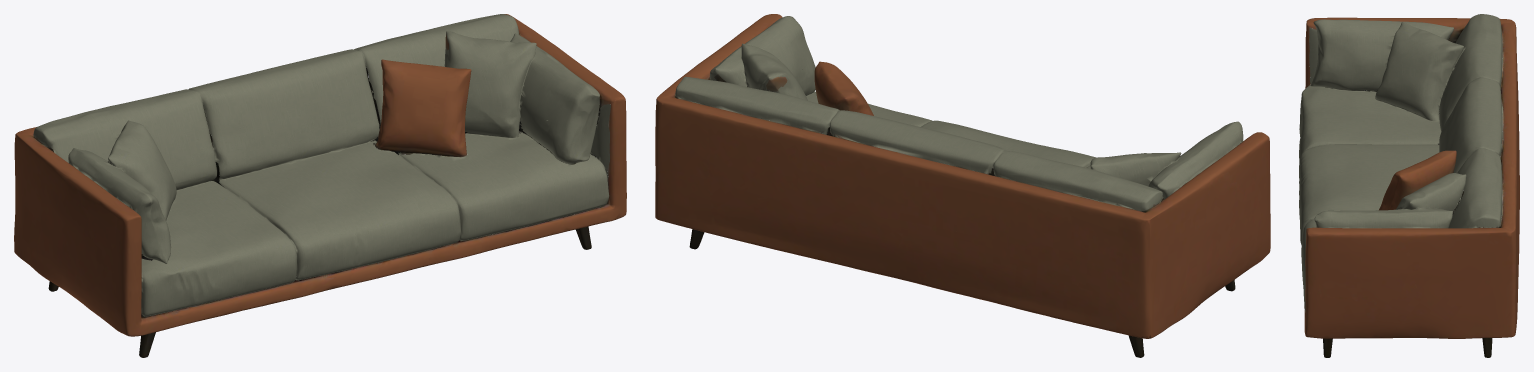
The picture shows the model from 3 angles, left to right: view 1: azimuth 30°, elevation 25°; view 2: azimuth 150°, elevation 25°; view 3: azimuth 270°, elevation 25°; orthographic projection. The views are drawn at different scales.
Visible parts, largest first — view 1: tripo_node_82062e8a-9194-4a12-be77-fb58efa7efdb; view 2: tripo_node_82062e8a-9194-4a12-be77-fb58efa7efdb; view 3: tripo_node_82062e8a-9194-4a12-be77-fb58efa7efdb.
Part boxes in pixels (x1,y1,x2,y2): tripo_node_82062e8a-9194-4a12-be77-fb58efa7efdb: [14, 14, 626, 357]; tripo_node_82062e8a-9194-4a12-be77-fb58efa7efdb: [655, 14, 1270, 357]; tripo_node_82062e8a-9194-4a12-be77-fb58efa7efdb: [1299, 14, 1519, 357].
Size of the model in its own units: 2.11 by 0.7 by 0.9.
2 materials, 2 textured.
